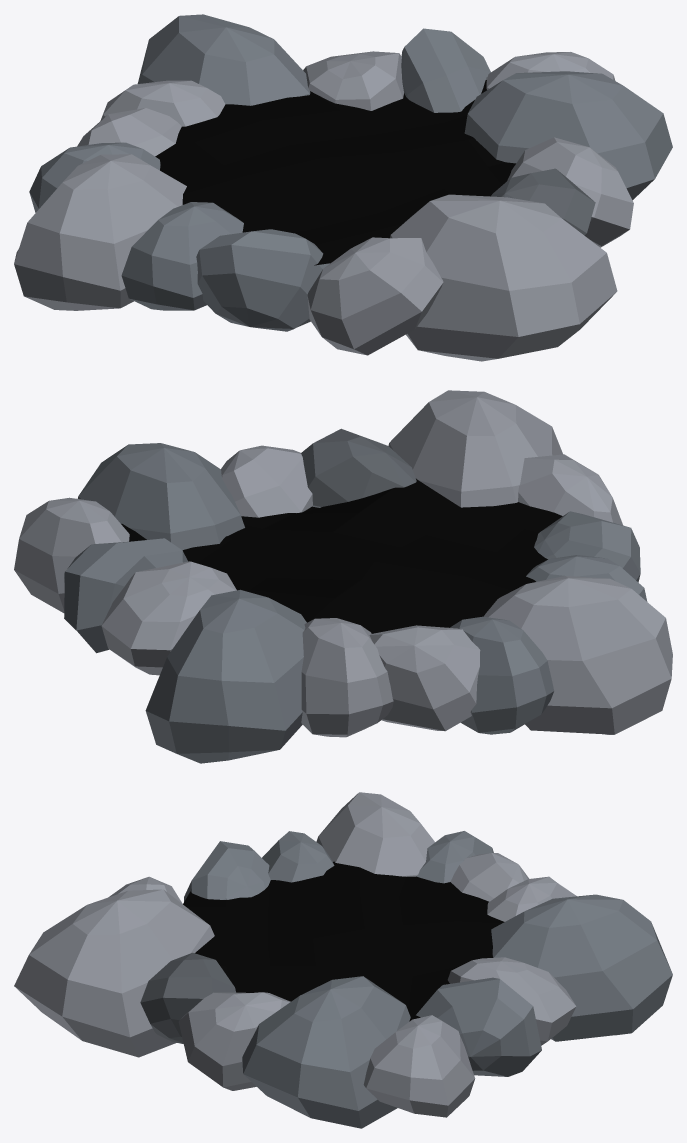
Rendered from Fire_02.gltf.
3 renders of one model, top to bottom at view 1: azimuth 30°, elevation 25°; view 2: azimuth 150°, elevation 25°; view 3: azimuth 270°, elevation 25°, orthographic. The views are drawn at different scales.
Parts seen in each view (by area): view 1: bonfire.001; view 2: bonfire.001; view 3: bonfire.001.
Part boxes in pixels (x1,y1,x2,y2): bonfire.001: [14, 14, 672, 361]; bonfire.001: [14, 390, 672, 763]; bonfire.001: [14, 792, 672, 1128].
Bounding box in the file's own units: 0.2071 × 0.0503 × 0.2141.
1 material, 1 textured.
